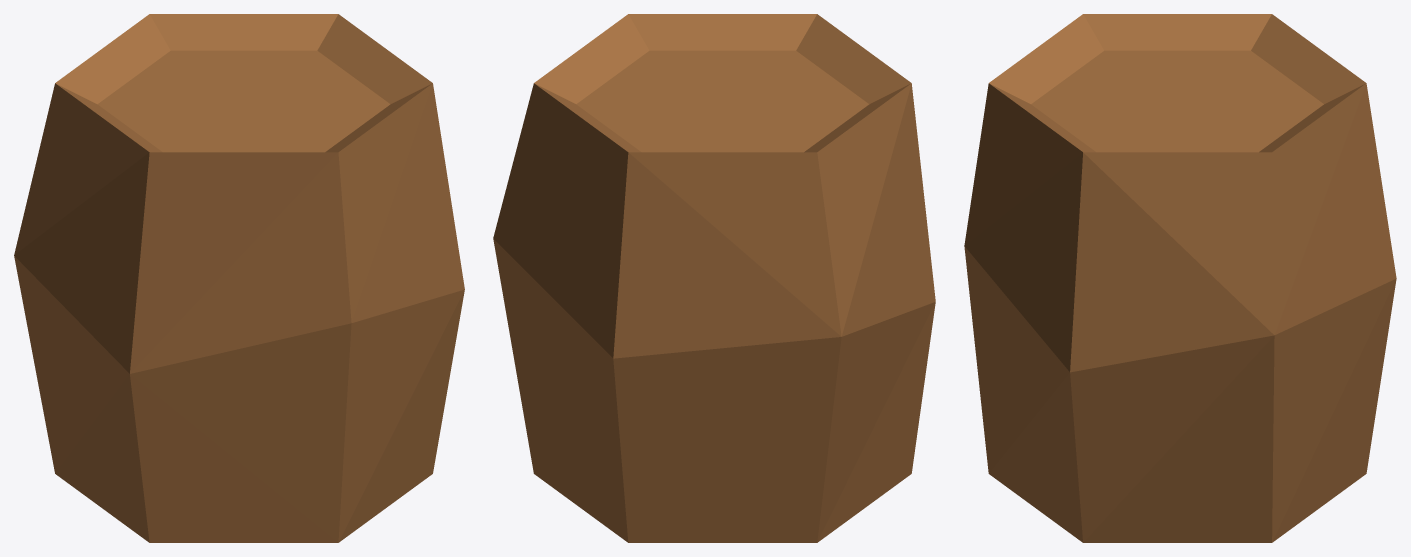
The model's file is barrel.fbx.
3 views of the same model, side by side, from view 1: azimuth 30°, elevation 25°; view 2: azimuth 150°, elevation 25°; view 3: azimuth 270°, elevation 25° (orthographic).
Parts seen in each view (by area): view 1: barrel1; view 2: barrel1; view 3: barrel1.
Boxes of the visible parts, x1,y1,x2,y2 form: barrel1: (14, 14, 464, 542); barrel1: (493, 14, 935, 542); barrel1: (964, 14, 1396, 542).
Bounding box in the file's own units: 0.9678 × 1.02 × 1.02.
